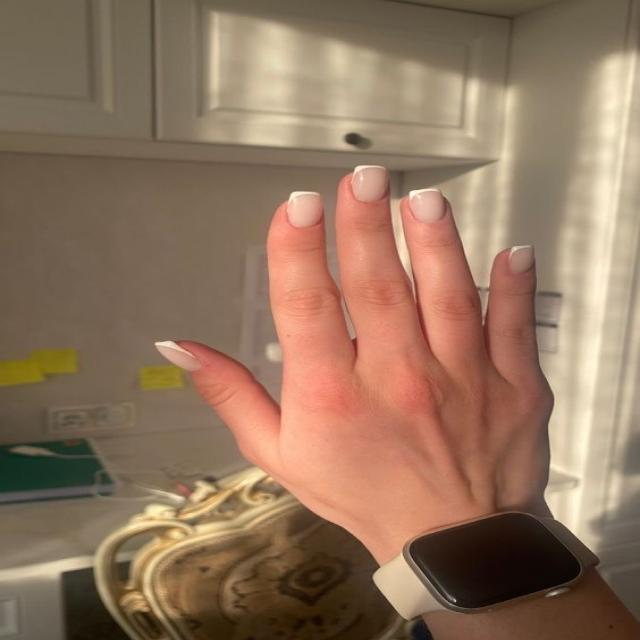Fingernail: (374, 513, 580, 618), (155, 342, 200, 372), (351, 166, 387, 202), (287, 192, 321, 228), (410, 189, 445, 223), (509, 246, 533, 274)
